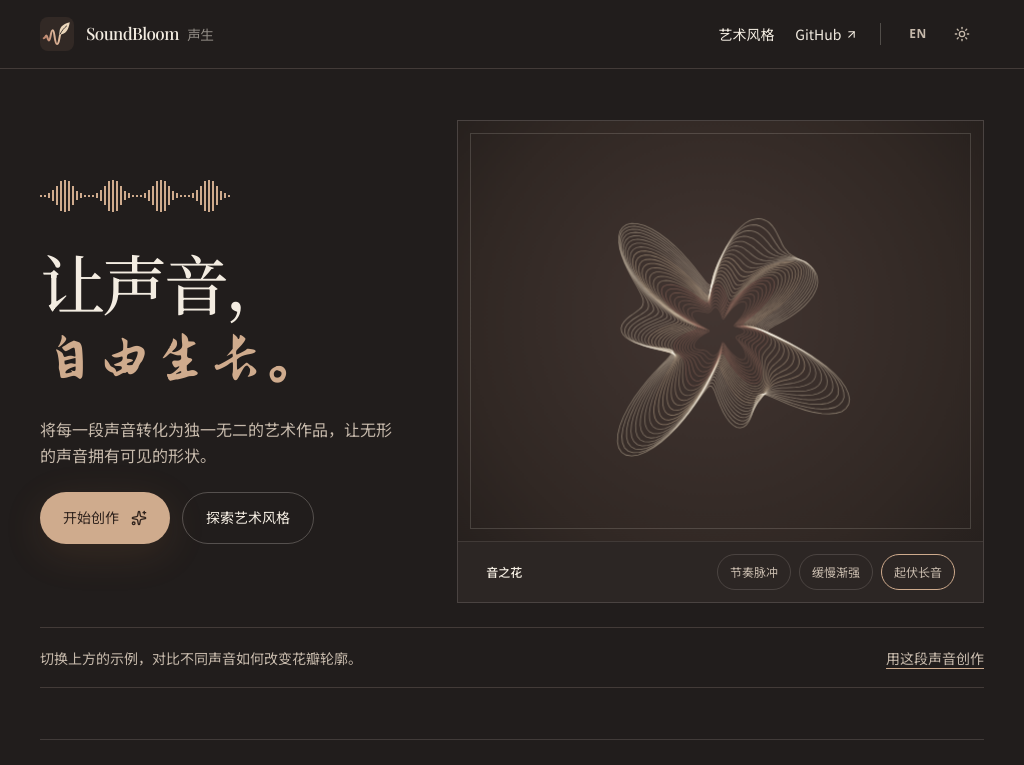
Test: keeps the selected English language when opening the studio
Click the button with aria-label "切换语言".
click(918, 34)  # box [896,12,940,56]
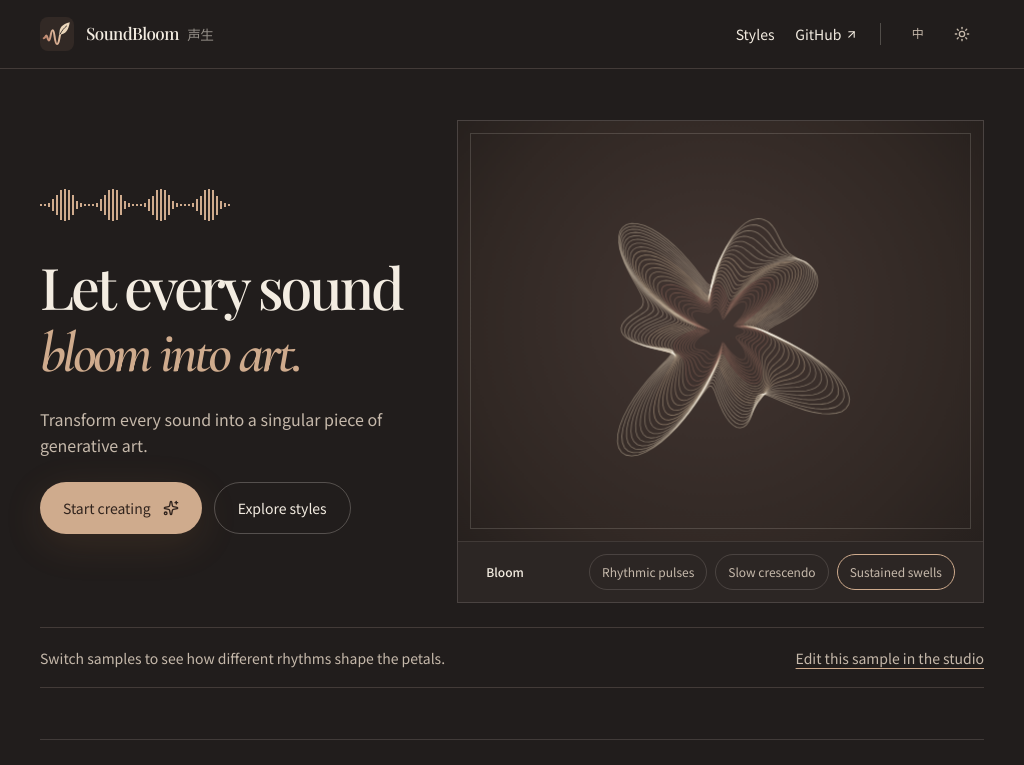
Click the button "Start creating".
click(121, 508)  # box [40,482,202,534]
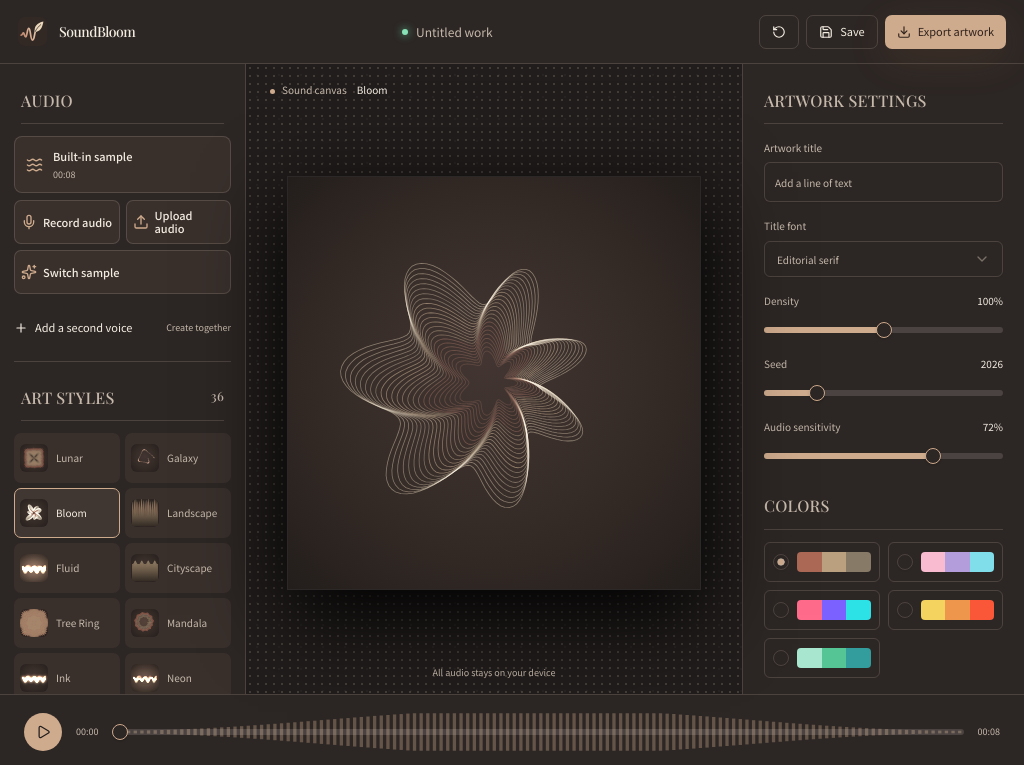
Now the button "Bloom" is shown, box [14,488,120,538]
Now the heading "Artwork settings" is shown, box [764,89,1003,124]
Now the button "Export artwork" is shown, box [885,14,1006,48]
